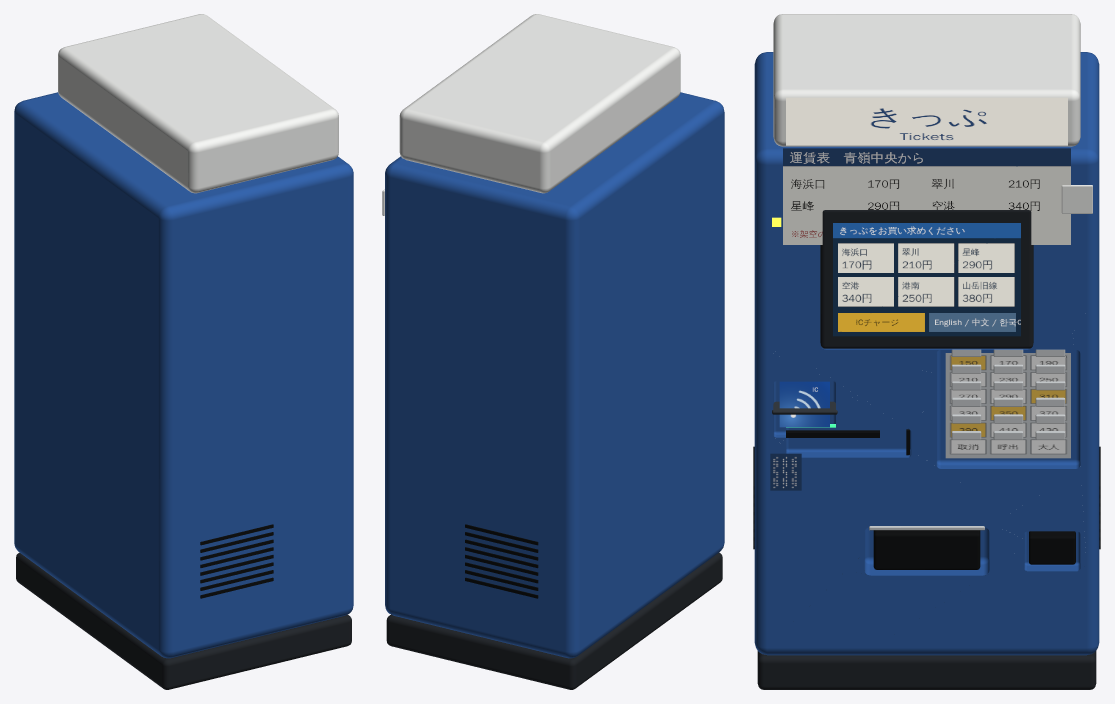
The model's file is ticket_blue.glb.
The picture shows the model from 3 angles, left to right: view 1: azimuth 30°, elevation 25°; view 2: azimuth 150°, elevation 25°; view 3: azimuth 270°, elevation 25°; orthographic projection. The views are drawn at different scales.
Parts seen in each view (by area): view 1: Body, VendParts_VendWhite, VendParts_VendDark, VendParts_Black; view 2: Body, VendParts_VendWhite, VendParts_VendDark, VendParts_Black; view 3: Body, VendParts_VendWhite, LCD, FareTable, VendParts_VendDark, LightBoxFace, ButtonPanel, VendParts_Black, VendParts_VendTrim, ICPad, BraillePlate, VendParts_GateTop.
Part boxes in pixels (x1,y1,x2,y2): Body: (14, 92, 353, 658); VendParts_VendWhite: (58, 14, 338, 193); VendParts_VendDark: (16, 552, 351, 689); VendParts_Black: (200, 524, 273, 598); Body: (385, 92, 724, 658); VendParts_VendWhite: (382, 14, 680, 215); VendParts_VendDark: (386, 552, 722, 689); VendParts_Black: (465, 524, 538, 598); Body: (754, 52, 1099, 655); VendParts_VendWhite: (773, 14, 1092, 213); LCD: (833, 223, 1020, 336); FareTable: (783, 148, 1070, 244); VendParts_VendDark: (757, 210, 1096, 689); LightBoxFace: (786, 97, 1067, 145); ButtonPanel: (945, 353, 1070, 458); VendParts_Black: (753, 429, 1100, 569); VendParts_VendTrim: (869, 349, 1065, 530); ICPad: (779, 381, 829, 427); BraillePlate: (770, 453, 801, 490); VendParts_GateTop: (772, 401, 837, 414).
Size of the model in its own units: 0.8149 by 2.1 by 1.11.
14 materials, 6 textured.
